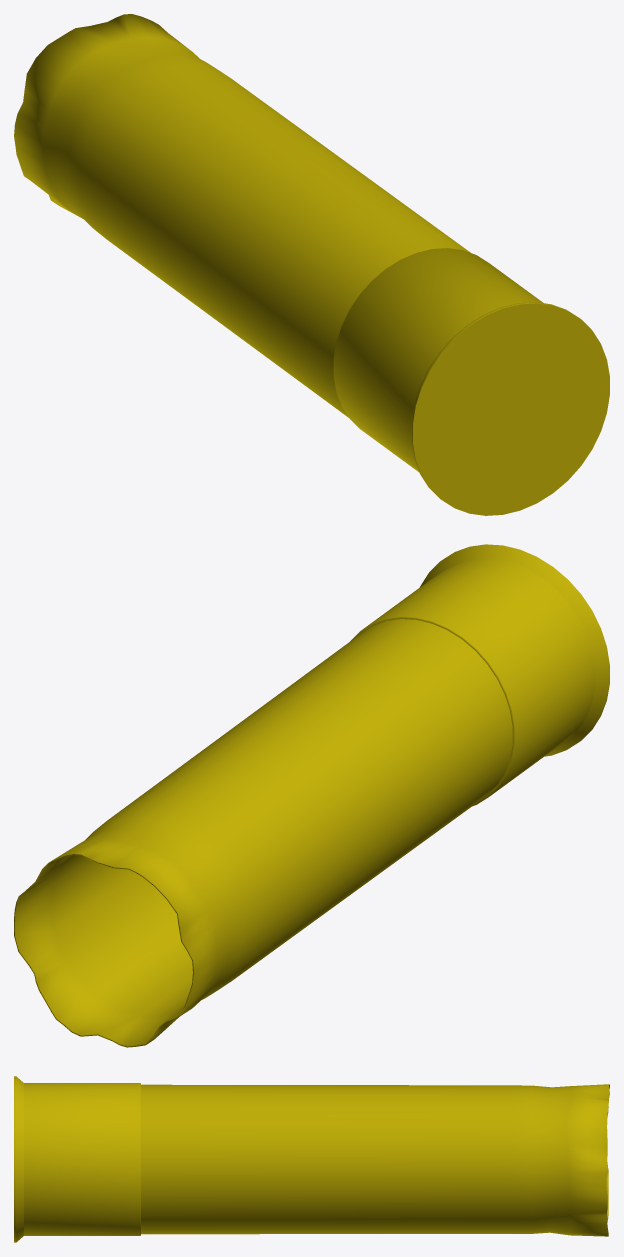
The model's file is slug1.fbx.
3 views of the same model, one above another, from view 1: azimuth 30°, elevation 25°; view 2: azimuth 150°, elevation 25°; view 3: azimuth 270°, elevation 25° (orthographic). The views are drawn at different scales.
Visible parts, largest first — view 1: 12ga_Shell_APslug; view 2: 12ga_Shell_APslug; view 3: 12ga_Shell_APslug.
Part boxes in pixels (x1=…): 12ga_Shell_APslug: x1=14, y1=14, x2=609, y2=515; 12ga_Shell_APslug: x1=14, y1=544, x2=609, y2=1047; 12ga_Shell_APslug: x1=14, y1=1076, x2=609, y2=1242.
Size of the model in its own units: 0.0204 by 0.0734 by 0.0204.
